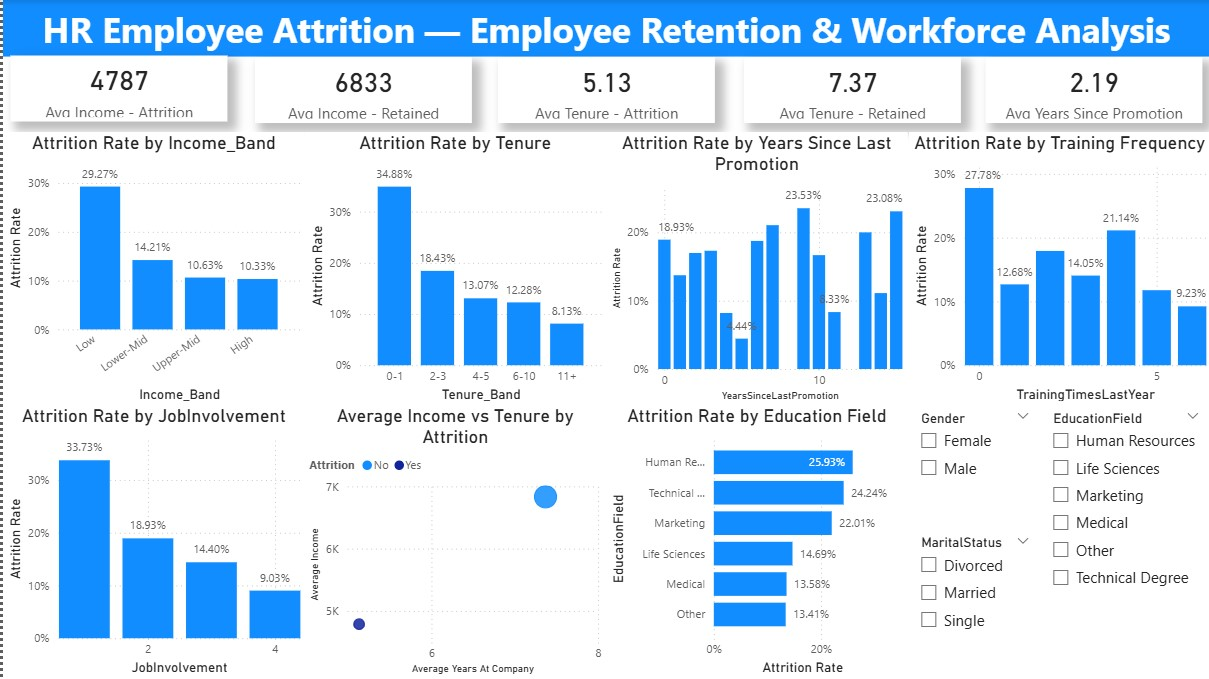

This screenshot's page, from the dashboard's own definition file:
{"tool":"powerbi","page":{"name":"Employee Retention & Workforce Analysis","canvas":[1280,720],"ordinal":2},"visuals":[{"type":"textbox","box":[0,0,1280,60],"z":0},{"type":"card","fields":{"Values":["project8_hr_employee_attrition_cleaned.Avg Income - Attrition"]},"box":[8.3,59.3,230,70],"z":1000},{"type":"card","fields":{"Values":["project8_hr_employee_attrition_cleaned.Avg Income - Retained"]},"box":[266.7,60,230,70],"z":2000},{"type":"card","fields":{"Values":["project8_hr_employee_attrition_cleaned.Avg Tenure - Attrition"]},"box":[525,60,230,70],"z":3000},{"type":"card","fields":{"Values":["project8_hr_employee_attrition_cleaned.Avg Tenure - Retained"]},"box":[785,60,230,70],"z":4000},{"type":"card","fields":{"Values":["project8_hr_employee_attrition_cleaned.Avg Years Since Promotion"]},"box":[1041.7,60,230,70],"z":5000},{"type":"columnChart","fields":{"Category":["project8_hr_employee_attrition_cleaned.Income_Band"],"Y":["project8_hr_employee_attrition_cleaned.Attrition Rate"]},"box":[0,140,320,290],"z":6000},{"type":"columnChart","title":"Attrition Rate by Tenure","fields":{"Category":["project8_hr_employee_attrition_cleaned.Tenure_Band"],"Y":["project8_hr_employee_attrition_cleaned.Attrition Rate"]},"box":[320,140,320,290],"z":7000},{"type":"columnChart","title":"Attrition Rate by Years Since Last Promotion","fields":{"Category":["project8_hr_employee_attrition_cleaned.YearsSinceLastPromotion"],"Y":["project8_hr_employee_attrition_cleaned.Attrition Rate"]},"box":[640,140,320,290],"z":8000},{"type":"columnChart","title":"Attrition Rate by Training Frequency","fields":{"Category":["project8_hr_employee_attrition_cleaned.TrainingTimesLastYear"],"Y":["project8_hr_employee_attrition_cleaned.Attrition Rate"]},"box":[960,140,320,290],"z":9000},{"type":"columnChart","fields":{"Y":["project8_hr_employee_attrition_cleaned.Attrition Rate"],"Category":["project8_hr_employee_attrition_cleaned.JobInvolvement"]},"box":[0,430,320,290],"z":10000},{"type":"scatterChart","title":"Average Income vs Tenure by Attrition","fields":{"X":["project8_hr_employee_attrition_cleaned.Average Years At Company"],"Series":["project8_hr_employee_attrition_cleaned.Attrition"],"Y":["project8_hr_employee_attrition_cleaned.Average Income"],"Size":["project8_hr_employee_attrition_cleaned.Total Employees"]},"box":[320,430,320,290],"z":11000},{"type":"barChart","title":"Attrition Rate by Education Field","fields":{"Category":["project8_hr_employee_attrition_cleaned.EducationField"],"Y":["project8_hr_employee_attrition_cleaned.Attrition Rate"]},"box":[640,430,320,290],"z":12000},{"type":"slicer","fields":{"Values":["project8_hr_employee_attrition_cleaned.Gender"]},"box":[960,430,140,131.7],"z":13000},{"type":"slicer","fields":{"Values":["project8_hr_employee_attrition_cleaned.MaritalStatus"]},"box":[960,561.7,140,158.3],"z":14000},{"type":"slicer","fields":{"Values":["project8_hr_employee_attrition_cleaned.EducationField"]},"box":[1100,430,180,261.7],"z":15000}]}

Visuals, with their boxes in screenshot pixels (x1, y1, x2, y2), scaled from the page's 1280x720 canvas onto the 1209x679 screenshot:
textbox: l=0, t=0, r=1208, b=57
card - project8_hr_employee_attrition_cleaned.Avg Income - Attrition: l=8, t=56, r=225, b=122
card - project8_hr_employee_attrition_cleaned.Avg Income - Retained: l=252, t=57, r=469, b=123
card - project8_hr_employee_attrition_cleaned.Avg Tenure - Attrition: l=496, t=57, r=713, b=123
card - project8_hr_employee_attrition_cleaned.Avg Tenure - Retained: l=741, t=57, r=959, b=123
card - project8_hr_employee_attrition_cleaned.Avg Years Since Promotion: l=984, t=57, r=1201, b=123
columnChart - project8_hr_employee_attrition_cleaned.Income_Band x project8_hr_employee_attrition_cleaned.Attrition Rate: l=0, t=132, r=302, b=406
"Attrition Rate by Tenure" columnChart: l=302, t=132, r=604, b=406
"Attrition Rate by Years Since Last Promotion" columnChart: l=604, t=132, r=907, b=406
"Attrition Rate by Training Frequency" columnChart: l=907, t=132, r=1208, b=406
columnChart - project8_hr_employee_attrition_cleaned.Attrition Rate x project8_hr_employee_attrition_cleaned.JobInvolvement: l=0, t=406, r=302, b=678
"Average Income vs Tenure by Attrition" scatterChart: l=302, t=406, r=604, b=678
"Attrition Rate by Education Field" barChart: l=604, t=406, r=907, b=678
slicer - project8_hr_employee_attrition_cleaned.Gender: l=907, t=406, r=1039, b=530
slicer - project8_hr_employee_attrition_cleaned.MaritalStatus: l=907, t=530, r=1039, b=678
slicer - project8_hr_employee_attrition_cleaned.EducationField: l=1039, t=406, r=1208, b=652
